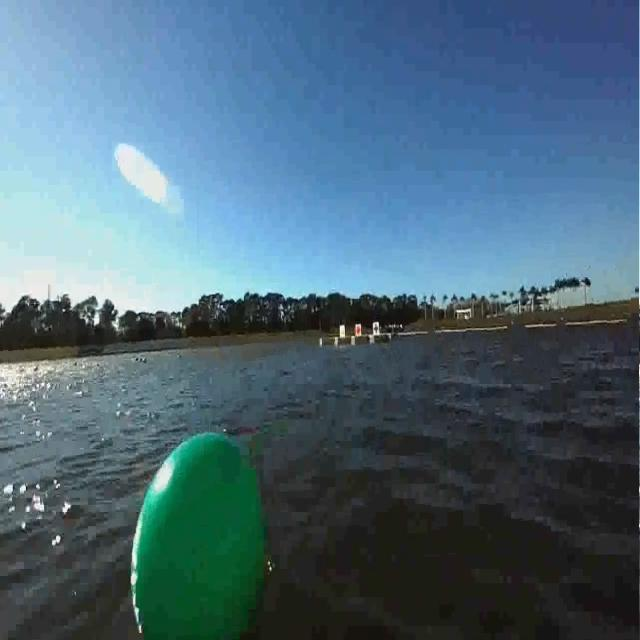green-buoy: (132, 428, 270, 640)
